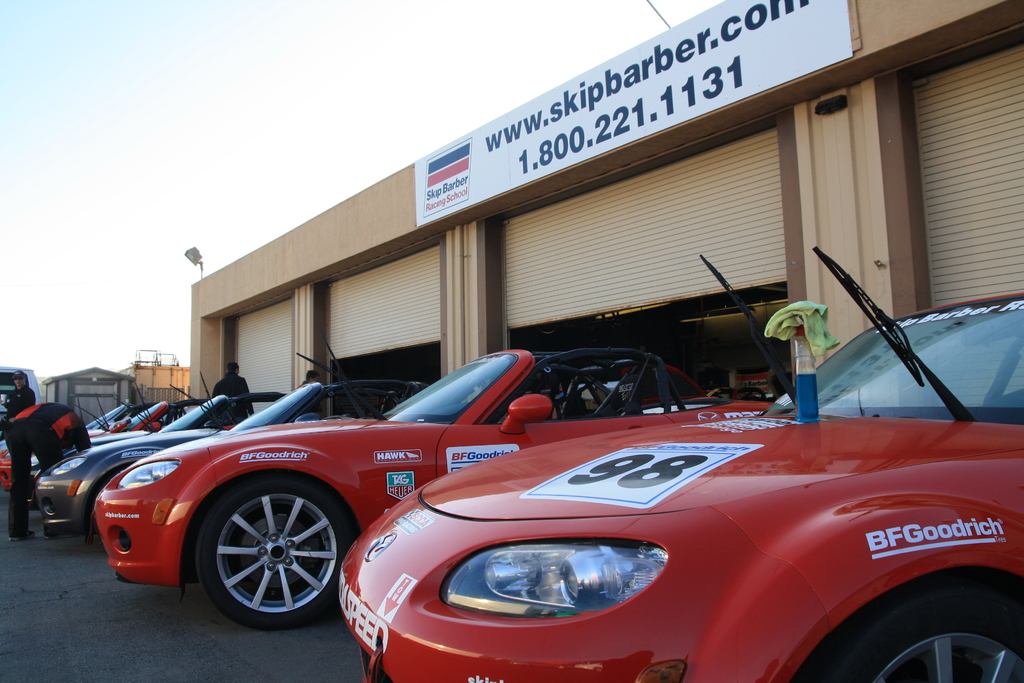Car: (0, 254, 1023, 682)
